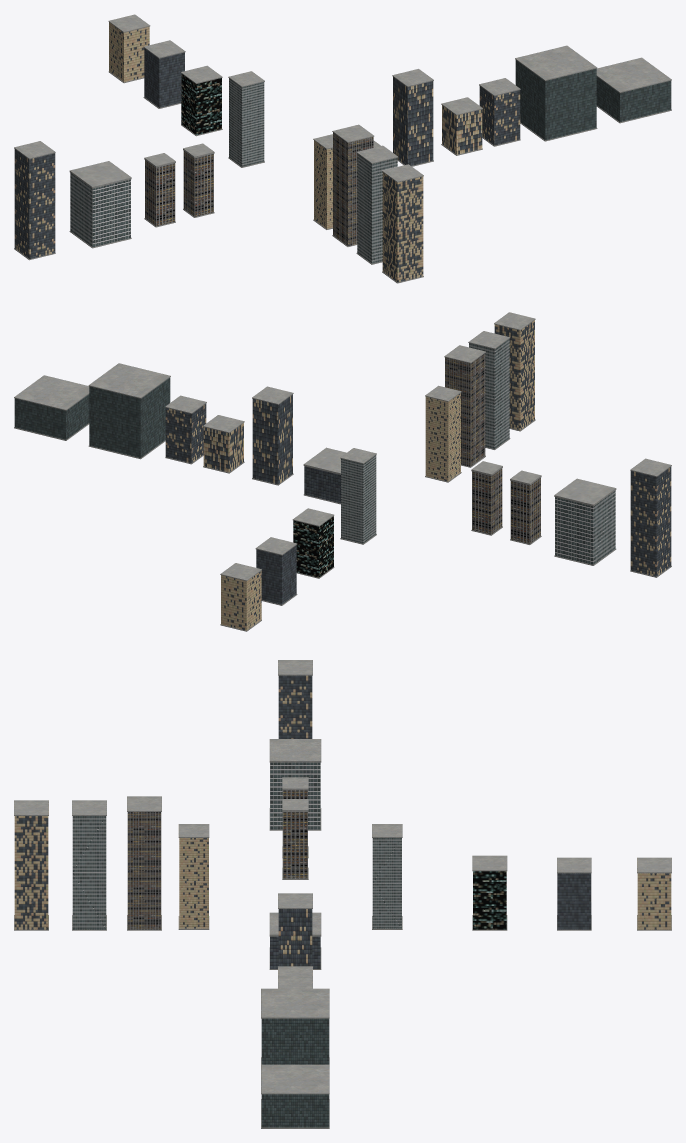
File: skyscrapers.gltf
3 renders of one model, top to bottom at view 1: azimuth 30°, elevation 25°; view 2: azimuth 150°, elevation 25°; view 3: azimuth 270°, elevation 25°, orthographic. The views are drawn at different scales.
Parts seen in each view (by area): view 1: Skyscraper17, Skyscraper15, Skyscraper13, Skyscraper3, Skyscraper18, Skyscraper5, Skyscraper8, Skyscraper9, Skyscraper11, Skyscraper10, Skyscraper14, Skyscraper12 (+5 smaller); view 2: Skyscraper17, Skyscraper13, Skyscraper3, Skyscraper18, Skyscraper5, Skyscraper9, Skyscraper8, Skyscraper7, Skyscraper15, Skyscraper11, Skyscraper16, Skyscraper10 (+6 smaller); view 3: Skyscraper17, Skyscraper9, Skyscraper11, Skyscraper15, Skyscraper18, Skyscraper3, Skyscraper7, Skyscraper8, Skyscraper13, Skyscraper10, Skyscraper12, Skyscraper16 (+3 smaller).
Boxes of the visible parts, x1,y1,x2,y2 form: Skyscraper17: (515,45,597,141); Skyscraper15: (382,164,423,283); Skyscraper13: (14,141,55,260); Skyscraper3: (69,161,131,248); Skyscraper18: (596,57,671,123); Skyscraper5: (392,69,433,166); Skyscraper8: (228,71,264,167); Skyscraper9: (332,124,374,246); Skyscraper11: (356,145,398,264); Skyscraper10: (181,65,222,136); Skyscraper14: (479,78,520,146); Skyscraper12: (143,40,185,108); Skyscraper17: (88,363,170,459); Skyscraper13: (630,458,671,577); Skyscraper3: (554,478,616,565); Skyscraper18: (14,375,89,440); Skyscraper5: (252,386,293,485); Skyscraper9: (444,345,485,467); Skyscraper8: (340,448,376,544); Skyscraper7: (425,385,461,482); Skyscraper15: (494,312,535,431); Skyscraper11: (468,331,510,449); Skyscraper16: (220,563,261,631); Skyscraper10: (292,508,334,578); Skyscraper17: (261,988,329,1064); Skyscraper9: (127,796,161,930); Skyscraper11: (72,800,106,930); Skyscraper15: (14,800,48,930); Skyscraper18: (261,1064,329,1128); Skyscraper3: (269,739,321,830); Skyscraper7: (178,824,209,929); Skyscraper8: (372,824,402,929); Skyscraper13: (278,660,312,738); Skyscraper10: (472,855,507,930); Skyscraper12: (557,857,591,930); Skyscraper16: (637,857,671,930).
Bounding box in the file's own units: 791 × 125 × 623.
17 materials, 17 textured.
